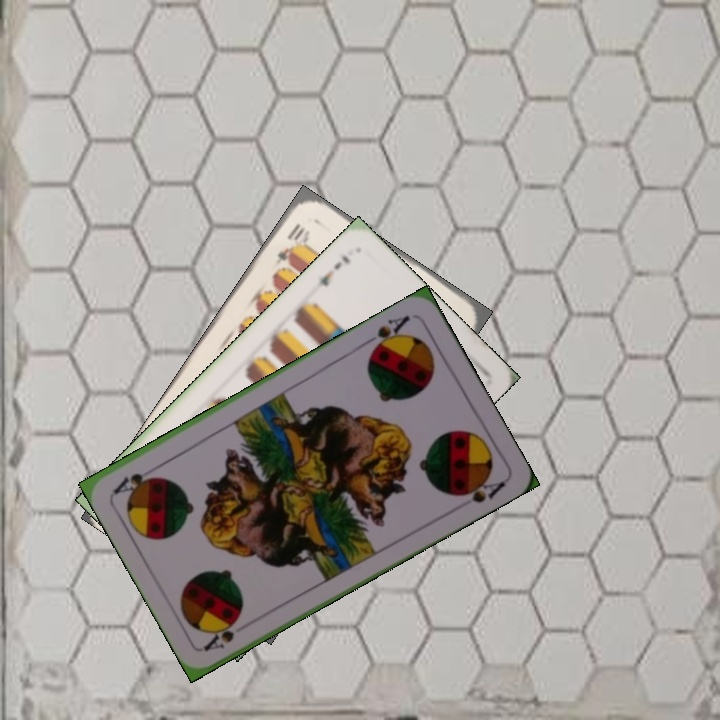E10: (271, 218, 308, 267)
E7: (315, 251, 353, 290)
SA: (360, 311, 413, 356), (200, 614, 243, 654)
